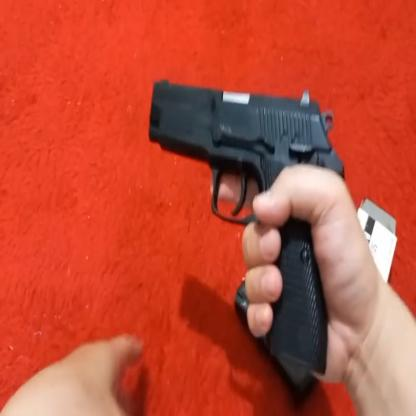handgun: (147, 64, 335, 382)
